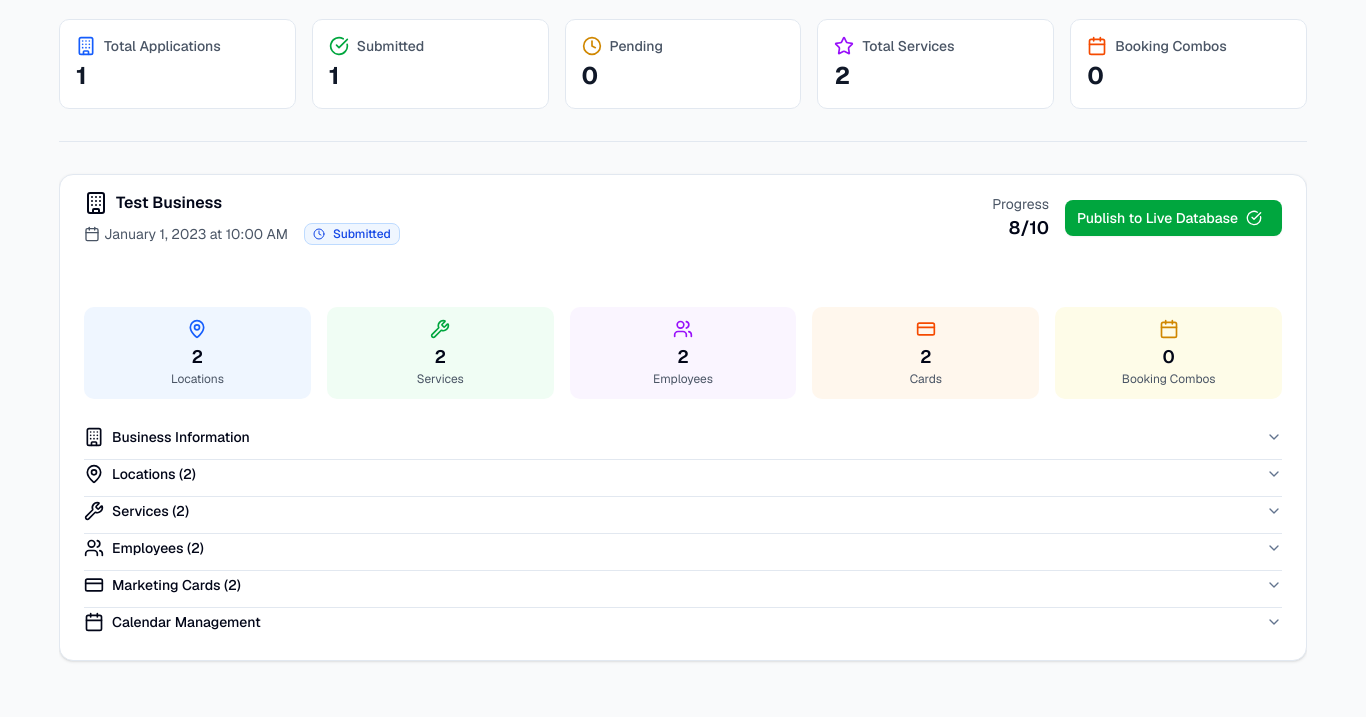
it: AdminReviewClient › Employee Details › should display employee booking status
(page scrolled)
Step 1. Click the button "Employees (2)" → (151, 548), box [84,534,1282,570]
(page scrolled)
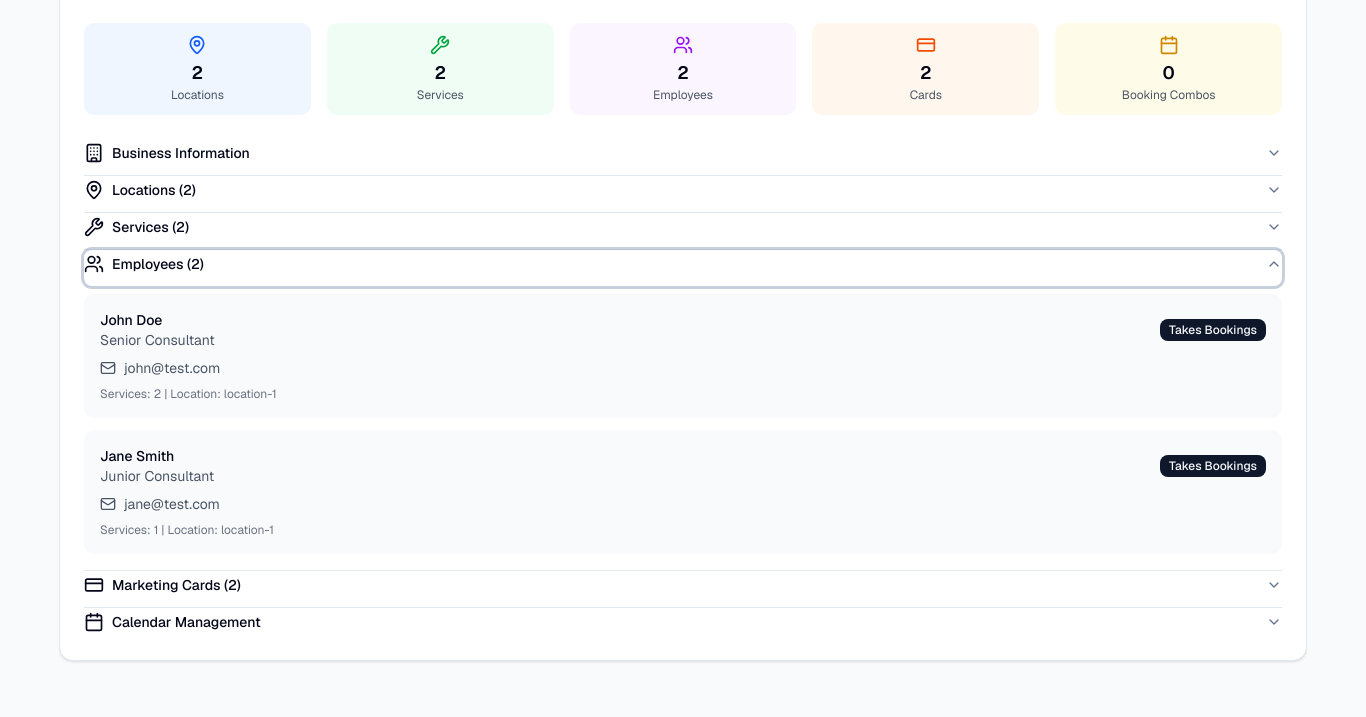
Expected: the element with test id "employee-employee-1" shows "John Doe", [100,311,162,329]
Expected: the element with test id "employee-employee-1" shows "Senior Consultant", [100,331,215,349]
Expected: the element with test id "employee-employee-1" shows "Takes Bookings", [1169,322,1257,338]
